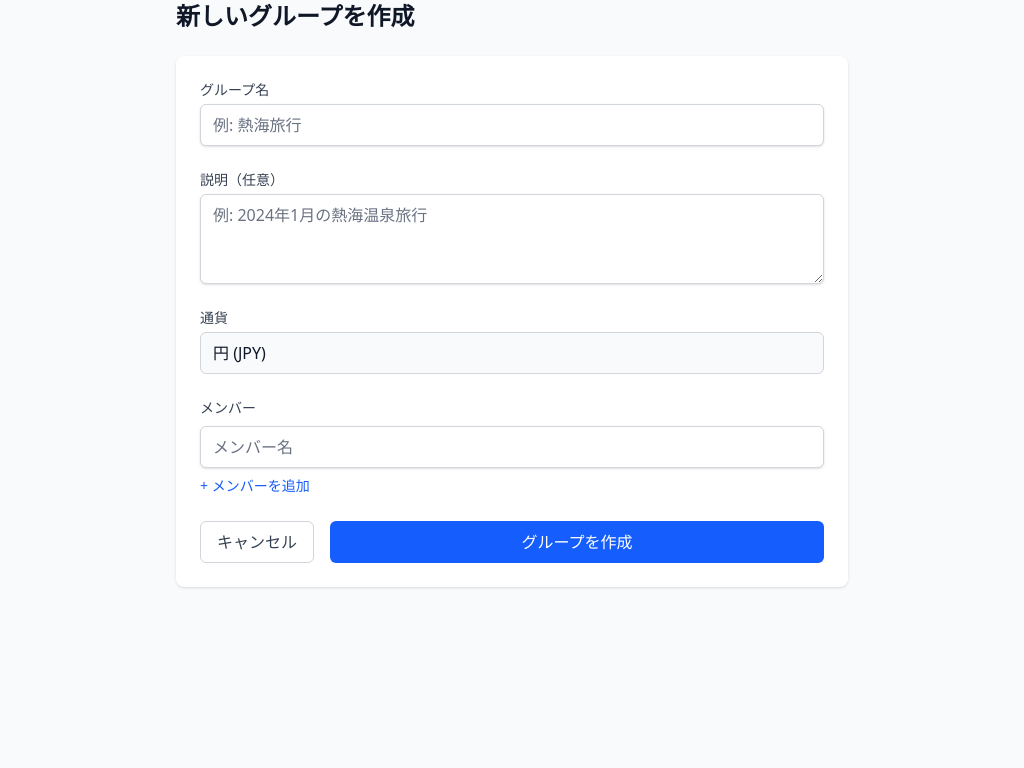
Test: CreateGroupPage › メンバー1人で送信時にエラーモーダルを表示する
Type "テストグループ" into the field labelled "グループ名".
click(512, 125); type("テストグループ")  # box [200, 104, 824, 146]
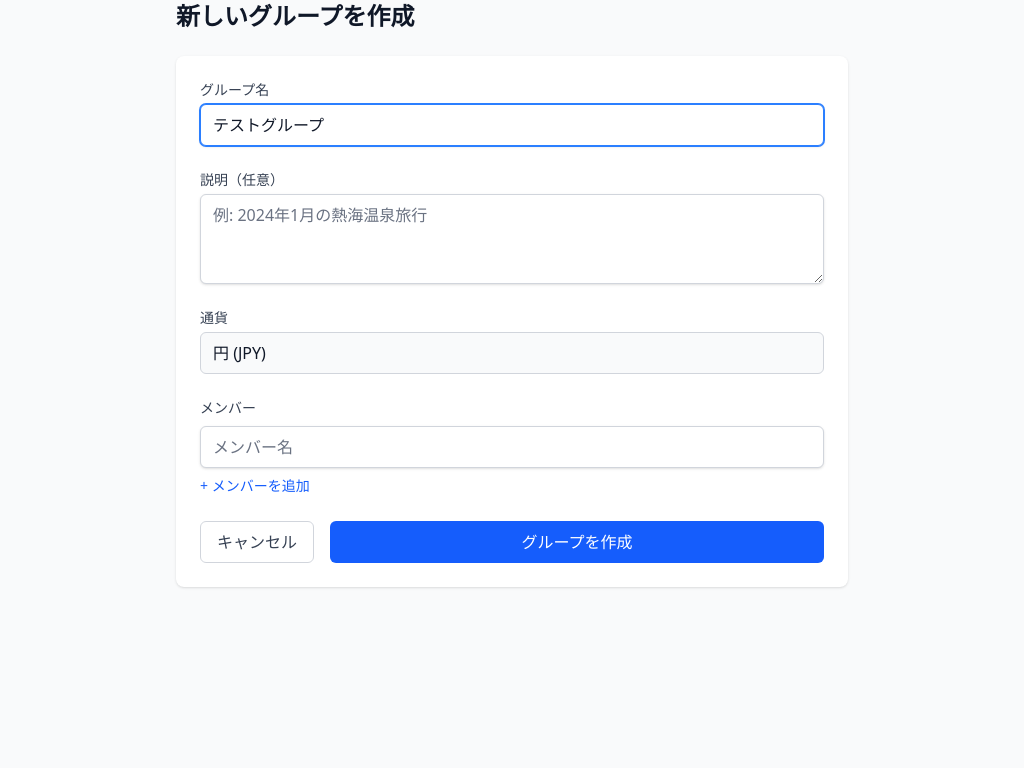
Type "Alice" into the field with placeholder "メンバー名".
click(512, 447); type("Alice")  # box [200, 426, 824, 468]
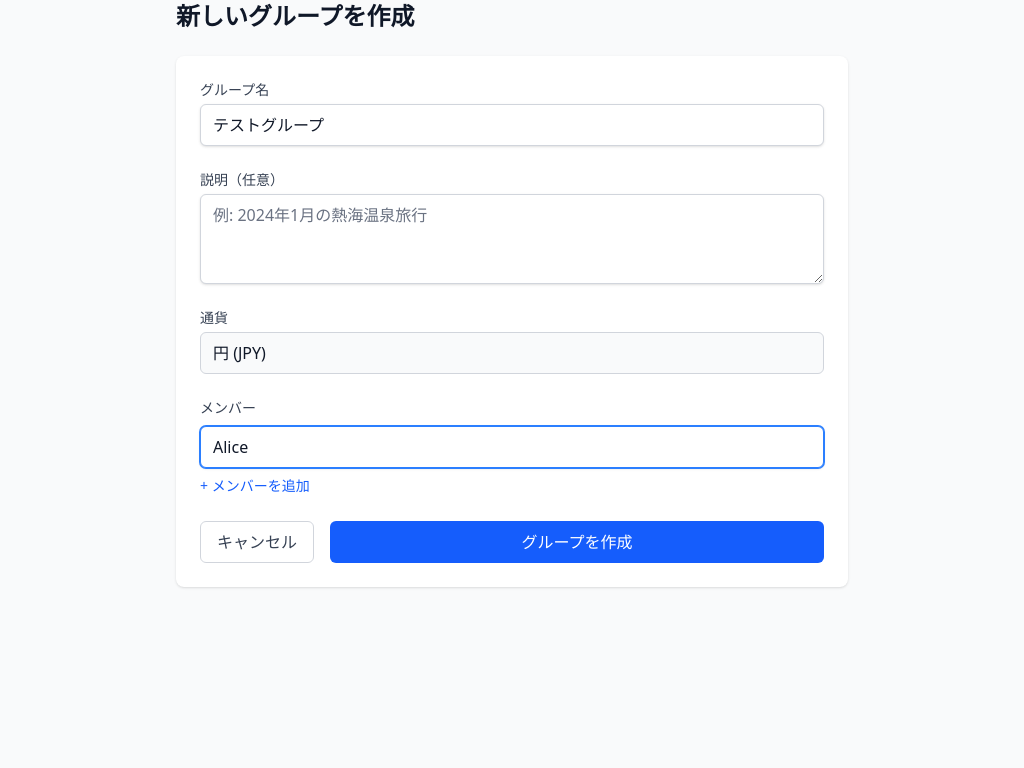
Click the button with aria-label "グループを作成して管理ページに移動".
click(577, 542)  # box [330, 521, 824, 563]
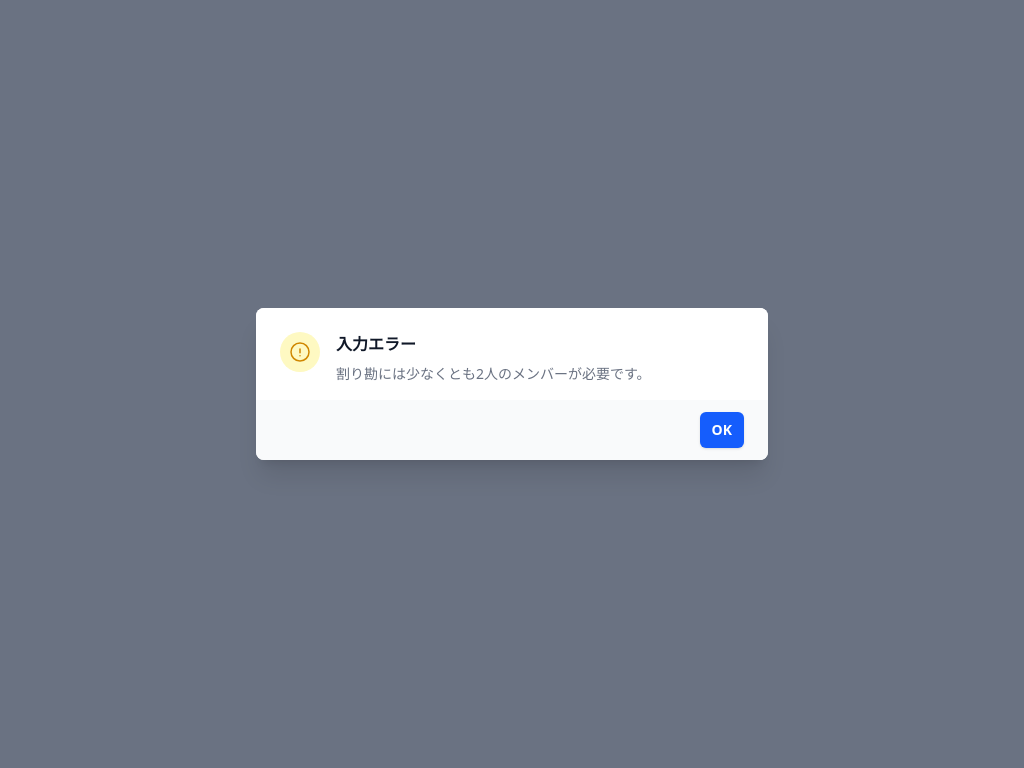
Result: the heading "入力エラー" is shown at [336, 333, 416, 355]
Result: the text "割り勘には少なくとも2人のメンバーが必要です。" is shown at [336, 364, 651, 384]
